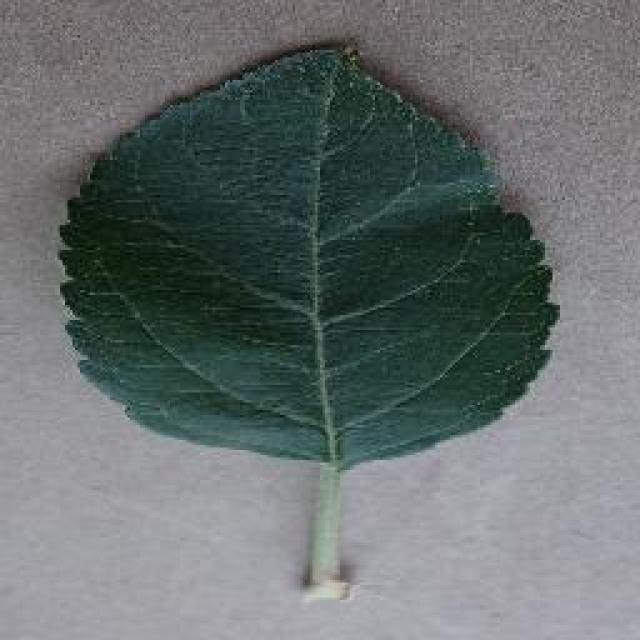apple healthy: (55, 38, 560, 600)
